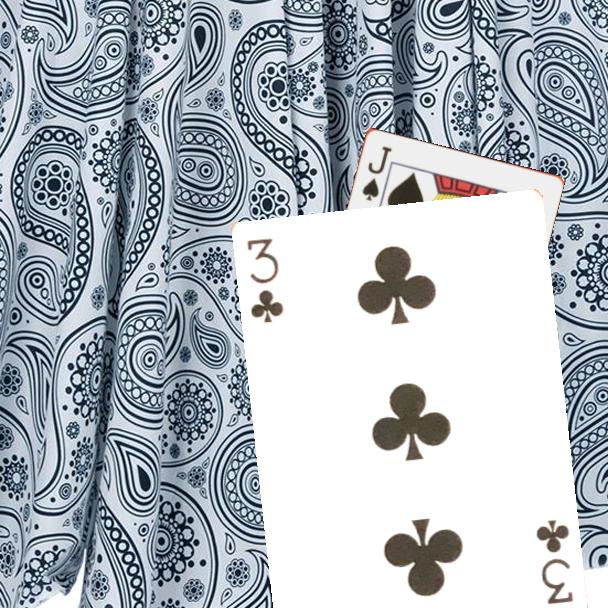c03: (532, 515, 576, 607), (243, 234, 286, 326)
s11: (358, 142, 394, 204)
